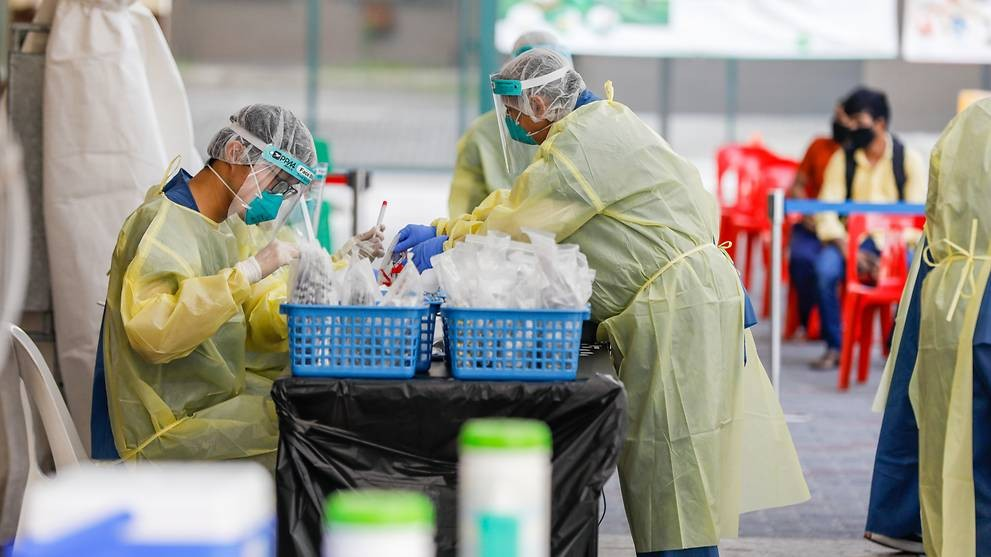Coverall: (485, 98, 794, 557), (85, 194, 323, 487), (893, 79, 991, 557)
Face_Shield: (241, 145, 324, 243), (488, 73, 541, 165)
Gloves: (236, 236, 305, 289), (389, 217, 449, 253)
with_mask: (247, 173, 297, 232), (500, 100, 540, 148)
